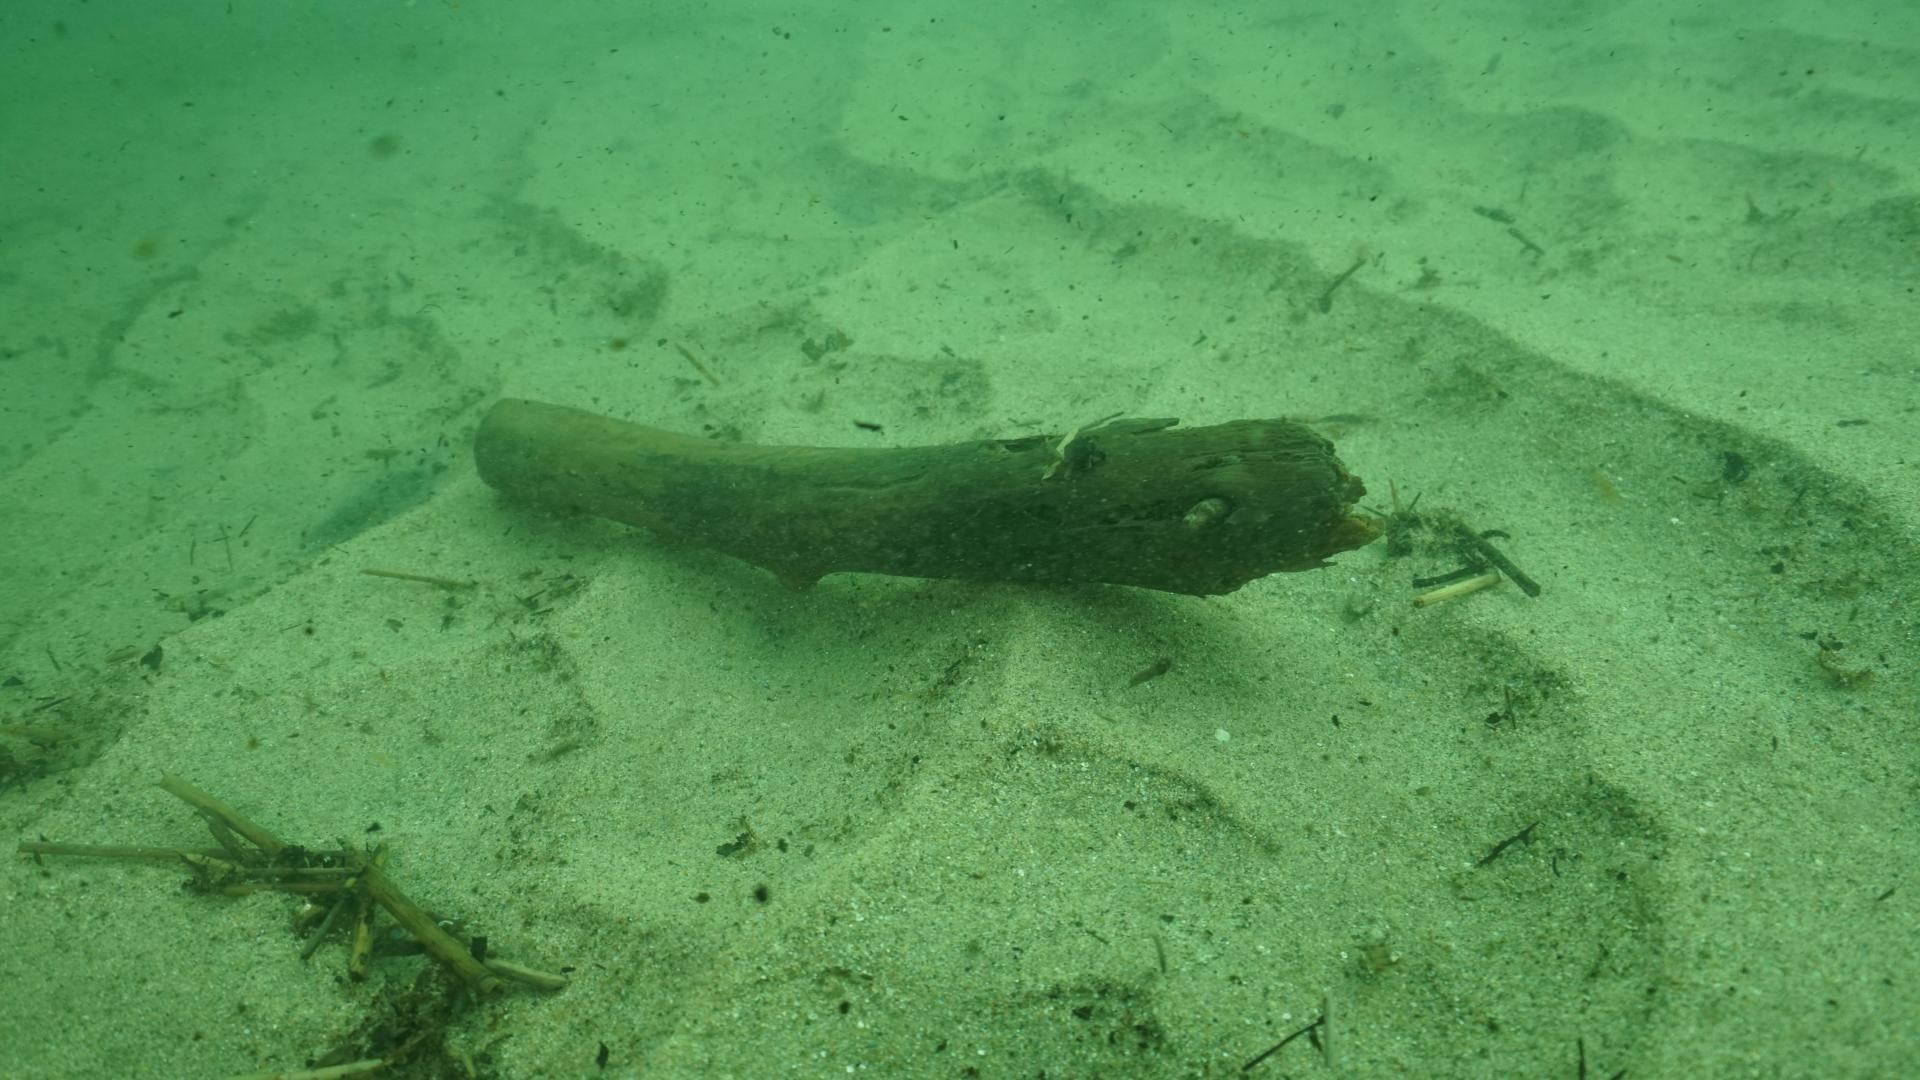wood: (476, 394, 1386, 599)
